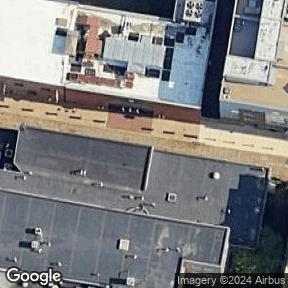vegetation: (226, 226, 282, 273)
